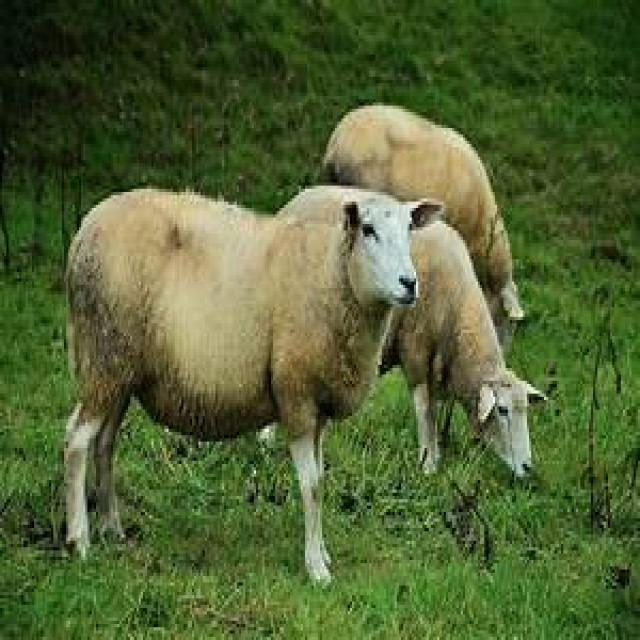animal: (23, 147, 426, 572), (448, 220, 552, 556)
